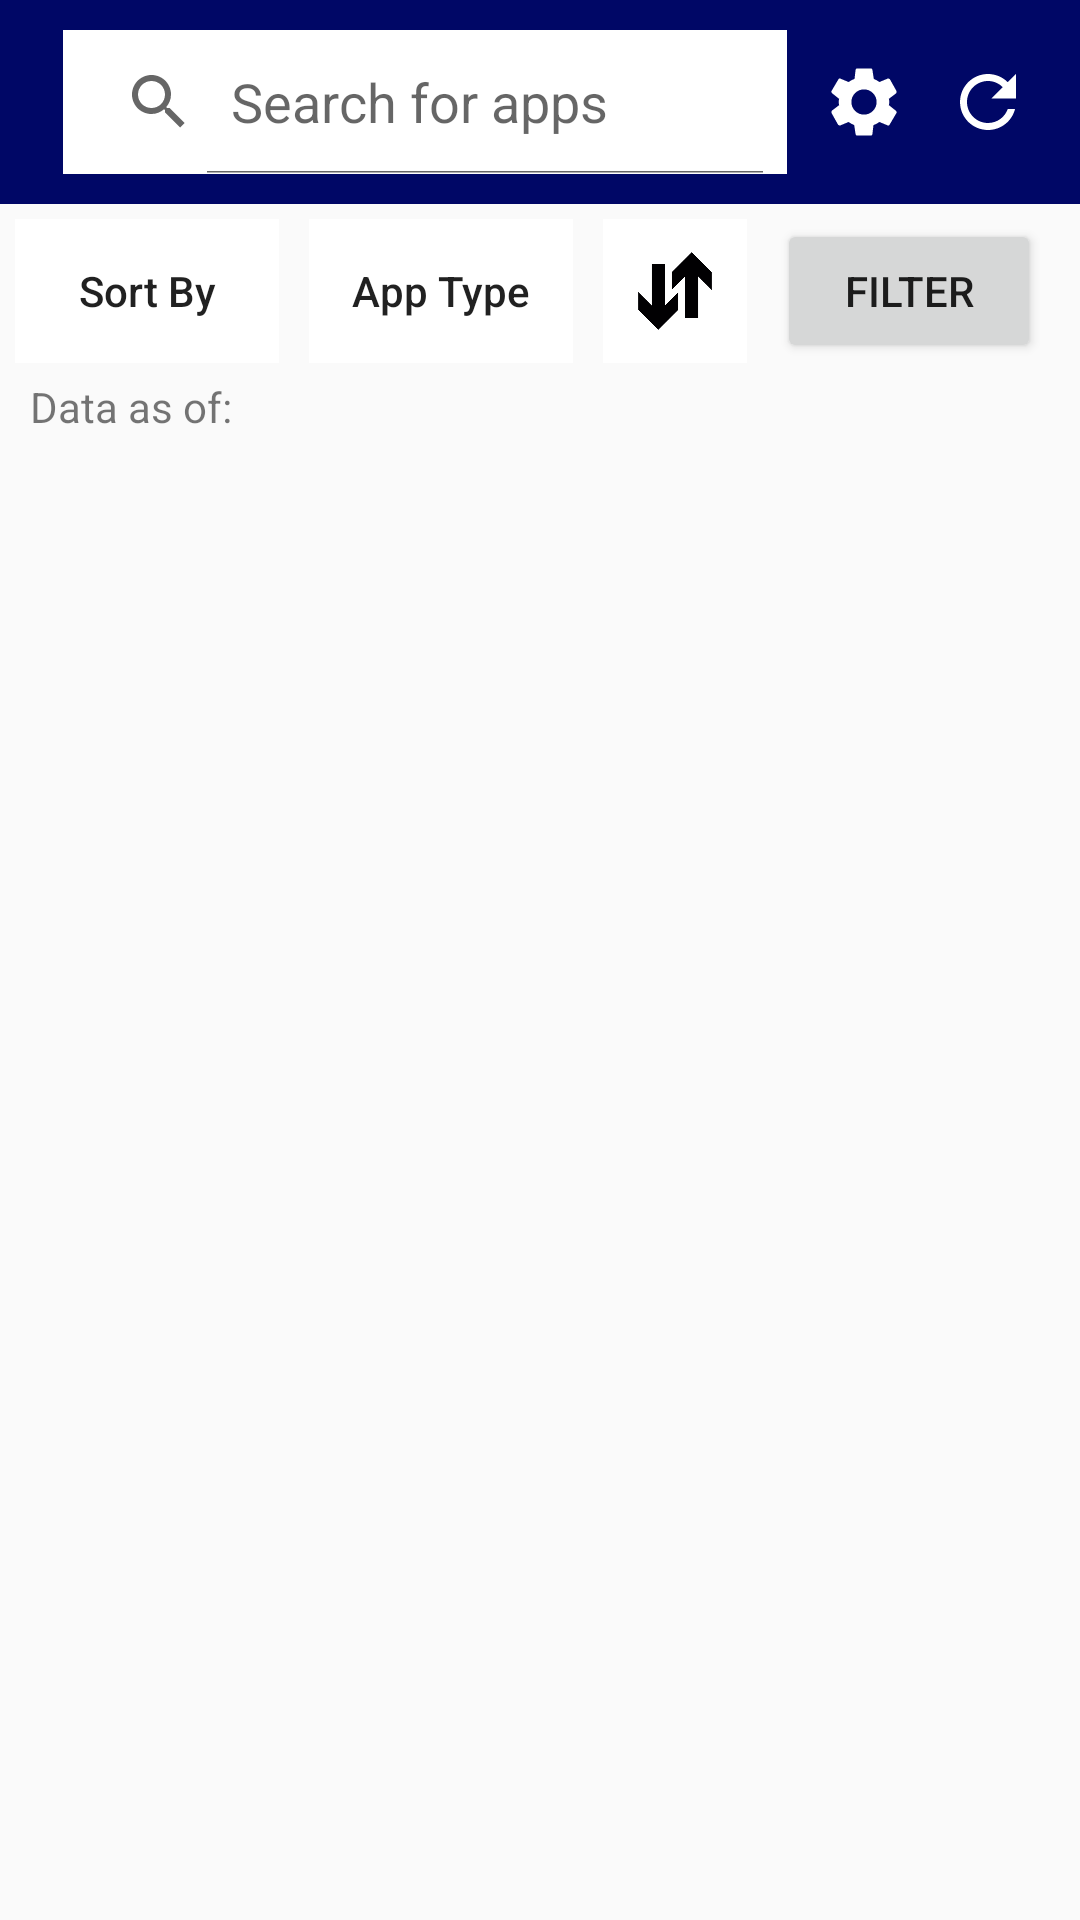

Icon bounding boxes for this 1080x1920 phone screenshot, format (x1, y1, x2, y2):
refresh: (960, 74, 1016, 130)
settings: (831, 68, 897, 136)
up down arrow: (638, 252, 712, 330)
